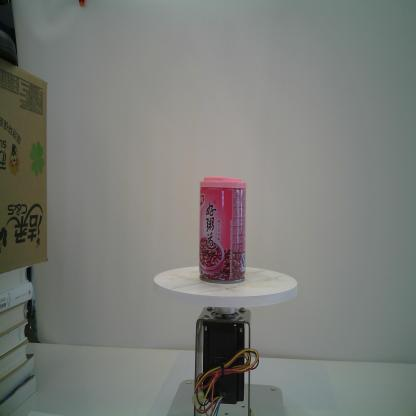Canned Food: (198, 175, 248, 286)
